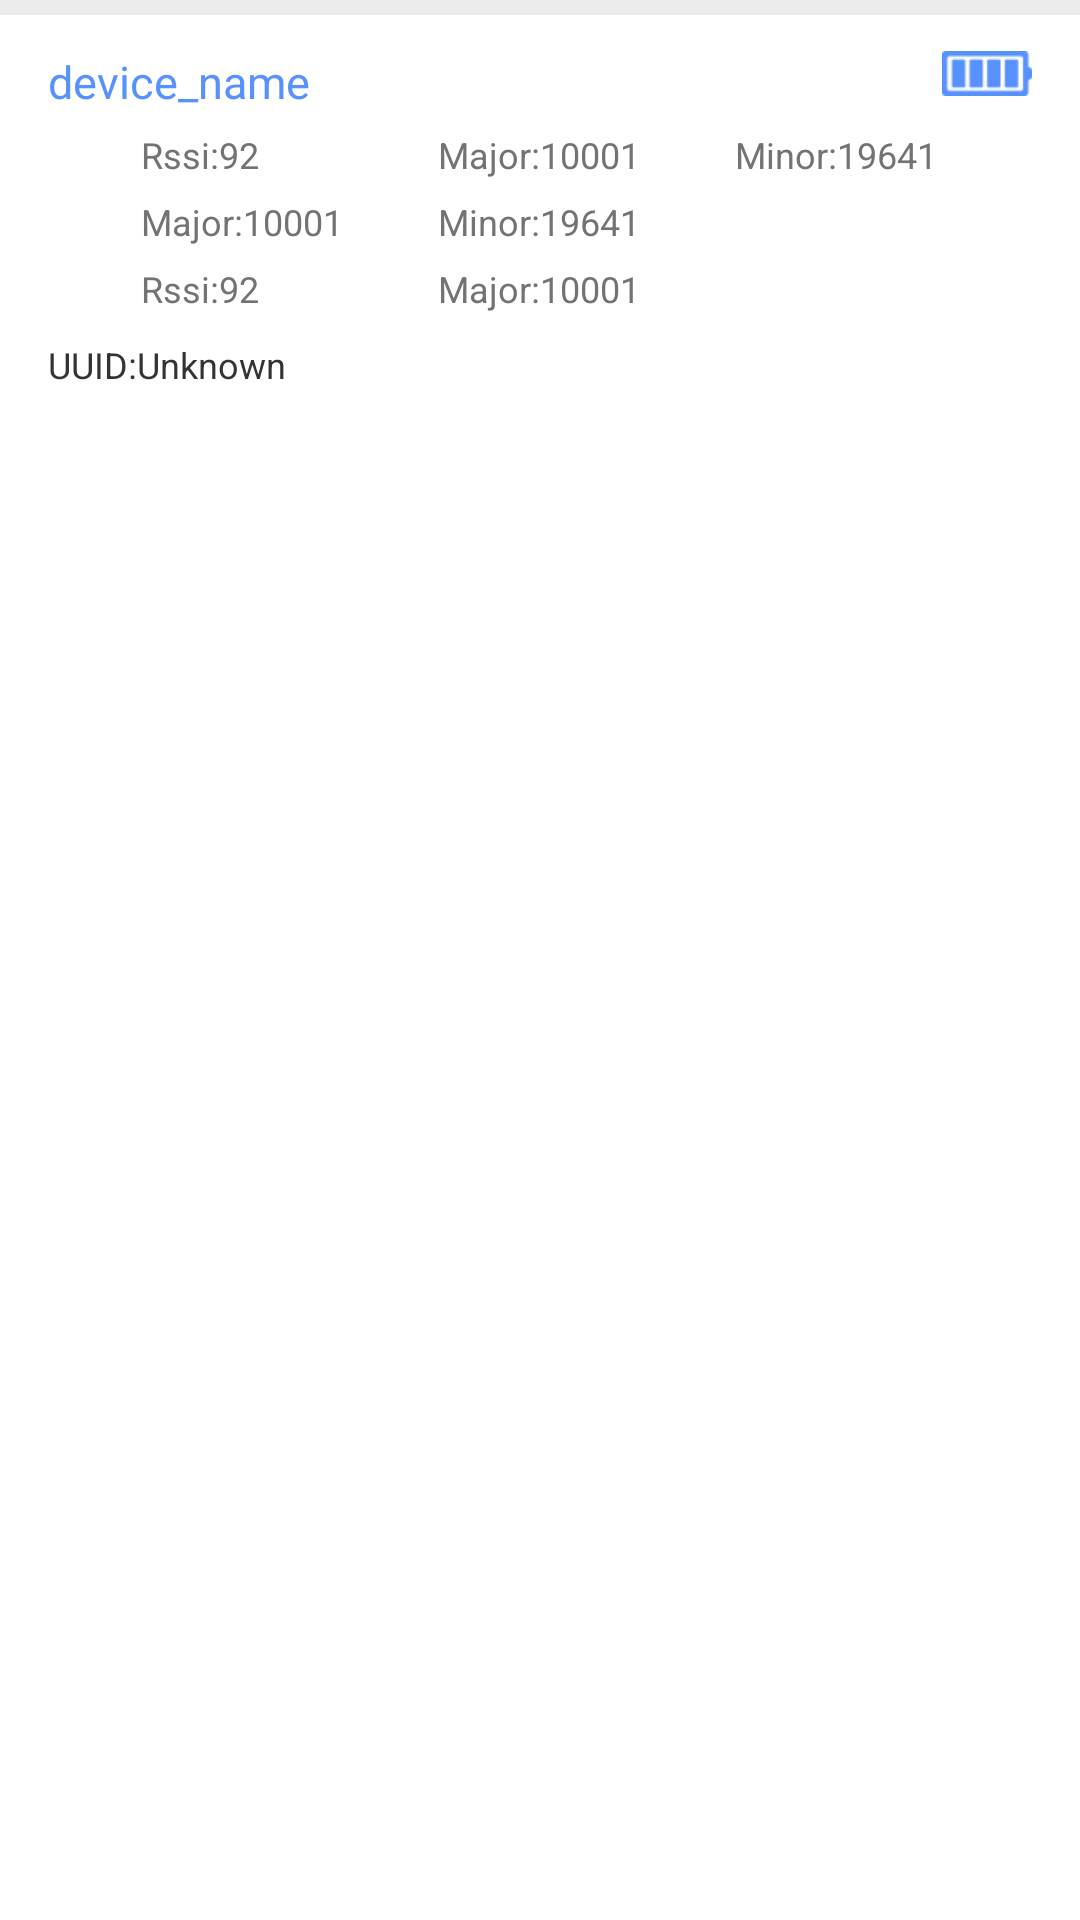

Named icons in this screenshot (1080px×1920px) and their bounding boxes, (x1,y1,x2,y2):
battery: (942,51,1032,96)
